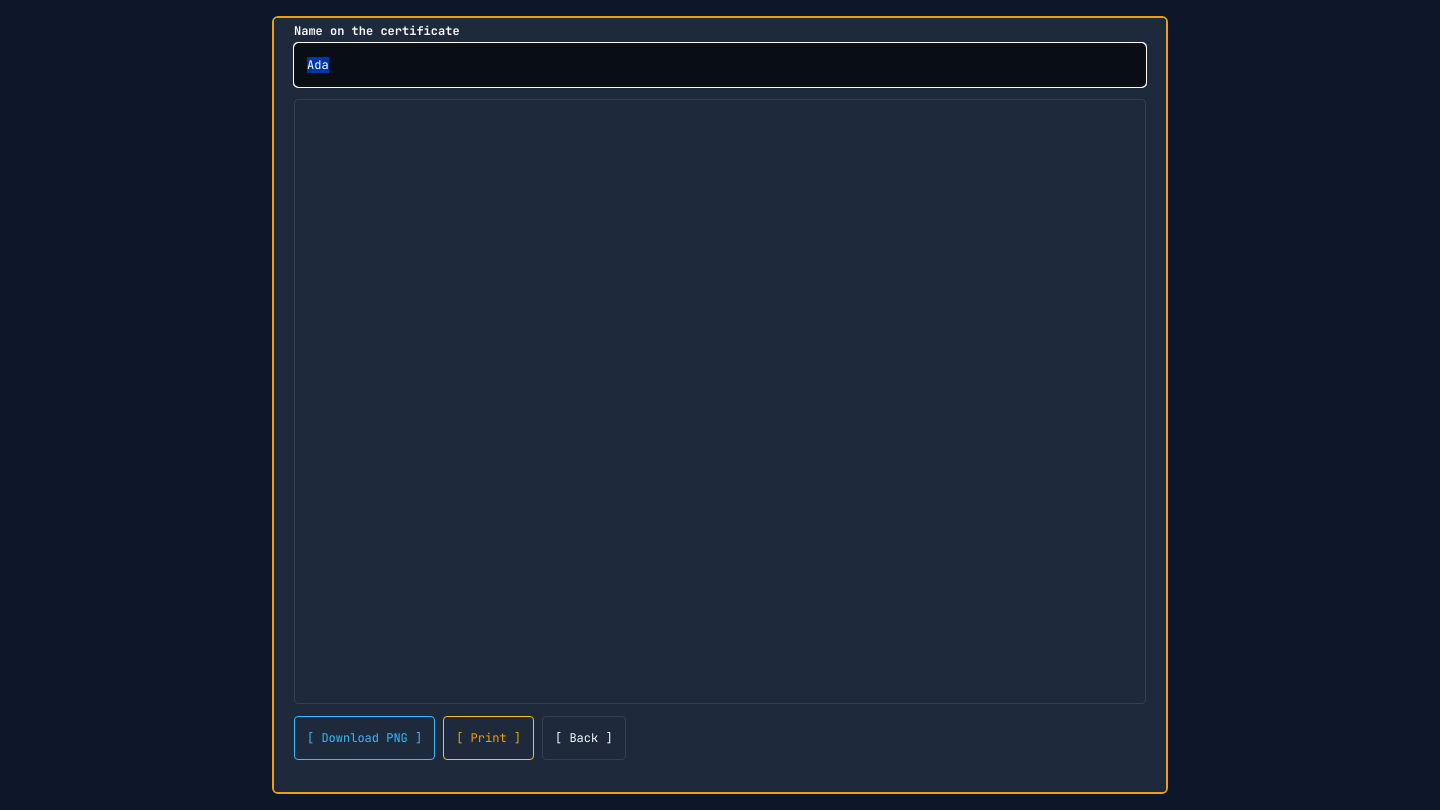
it: Certificate › [ Download PNG ] saves the picture under a name made from theirs
(page scrolled)
Click the button "[ Download PNG ]" at (365, 738), box [294,716,435,760]
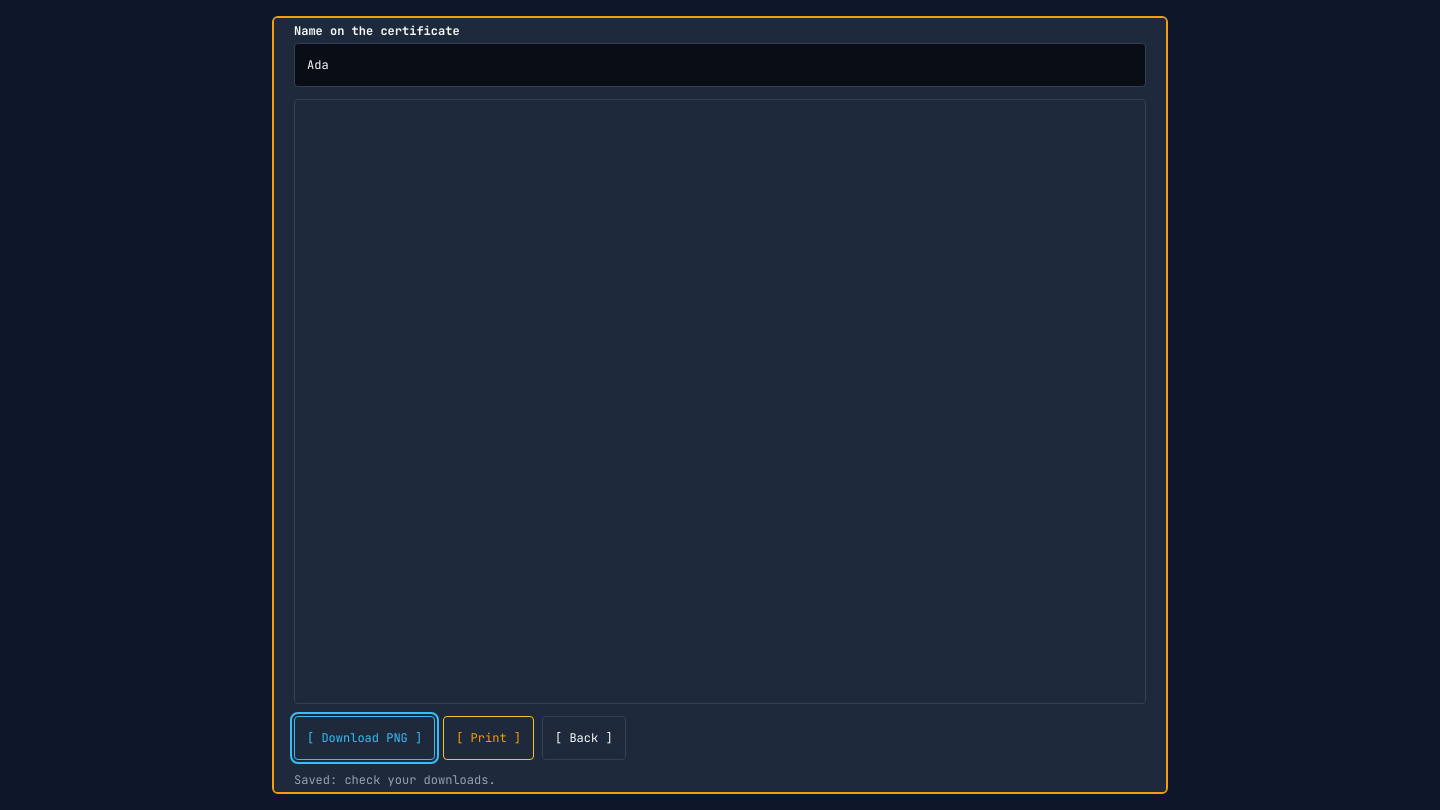
expect the message shows "Saved": met, box [294,772,496,788]
